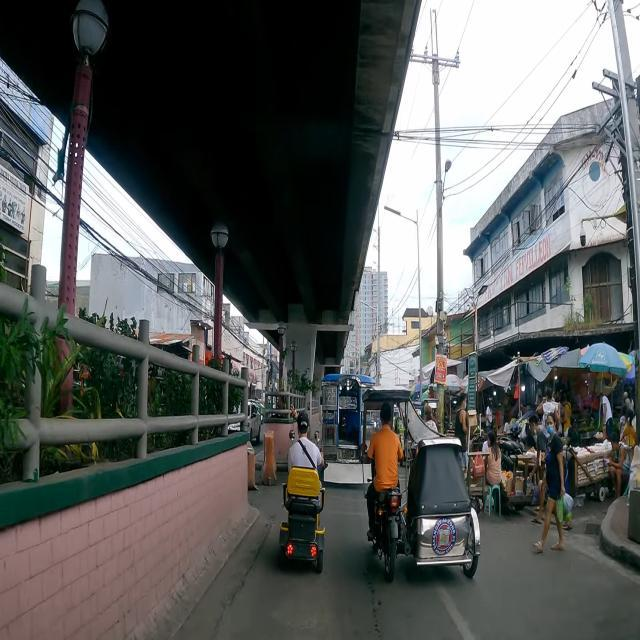car: (226, 400, 262, 444)
jeepney: (321, 372, 377, 484)
tricycle: (362, 386, 481, 582)
